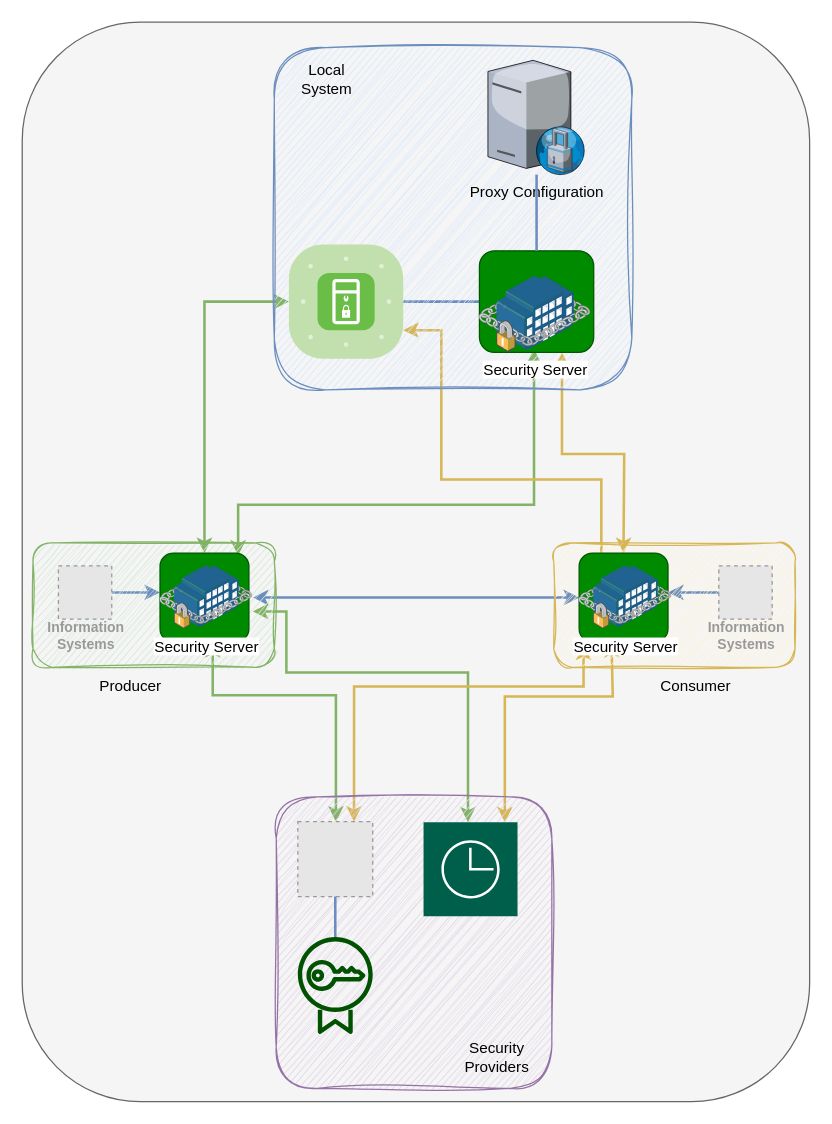
Image size: 832x1124. Some labels were removed from this diagram. Grey dashed boxes stand in for pictures. Here are the shapes that lost their labels. From the top down, the centre of each, then its label:
[345,301]: Central Server
[470,869]: Time Stamping Server
[335,985]: Certification authority
